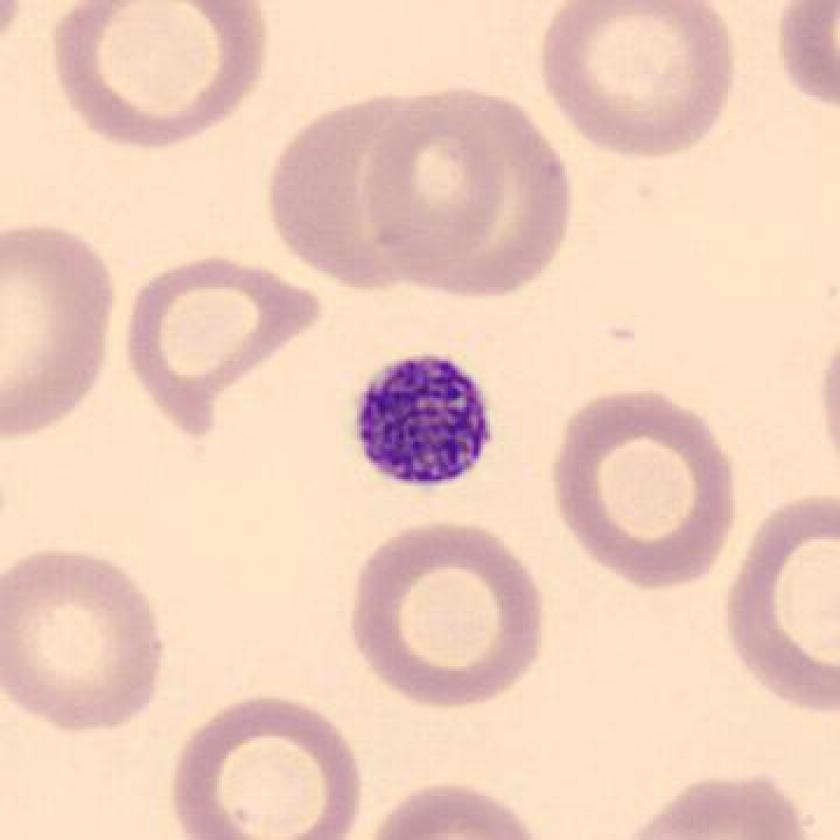platelets: (344, 343, 510, 501)
